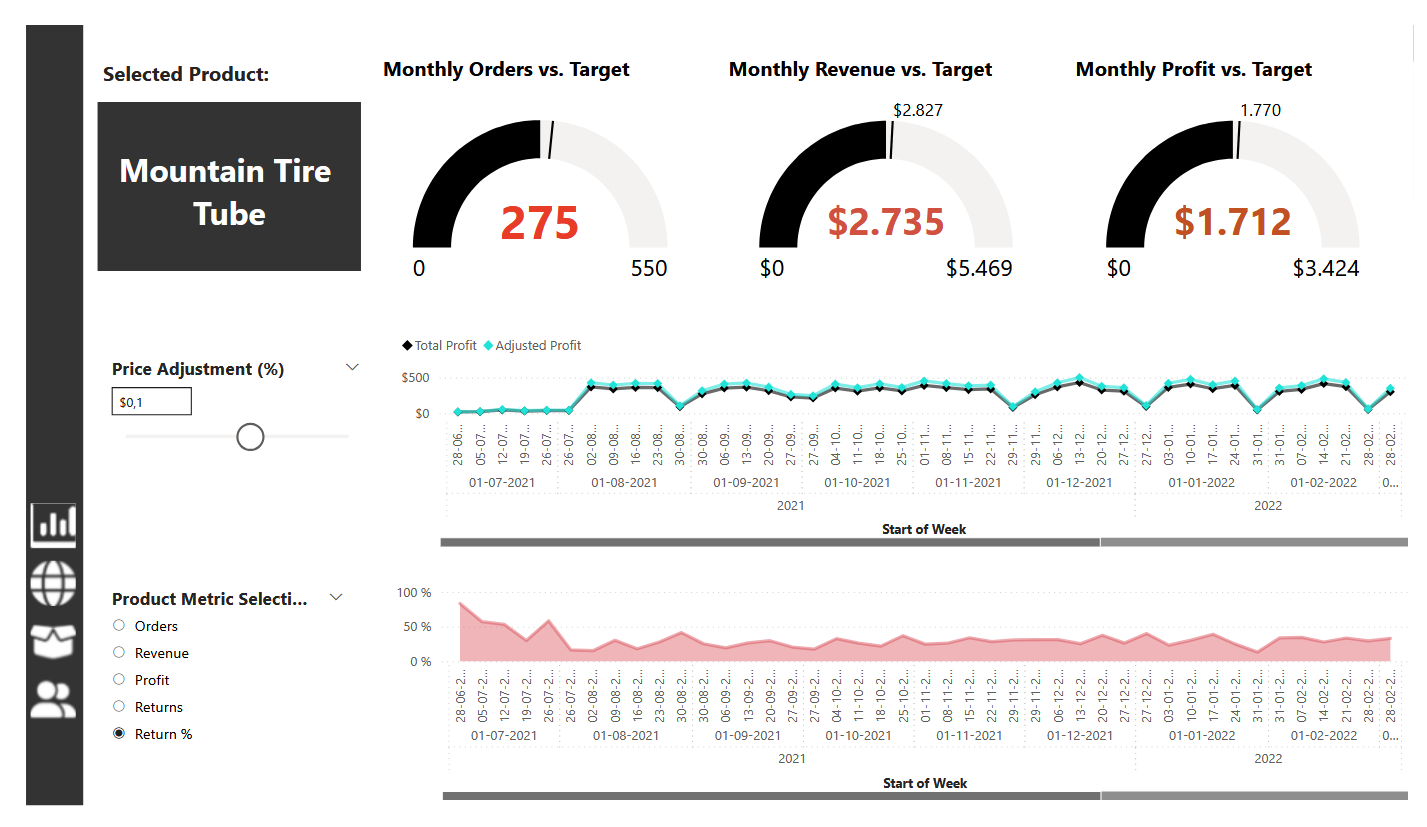

The page's visual inventory and layout, read from the dashboard file:
{"tool":"powerbi","page":{"name":"Products","canvas":[1280,720],"ordinal":2},"visuals":[{"type":"shape","box":[0,0,52.6,719.6],"z":0},{"type":"actionButton","box":[0,437.4,97,49.8],"z":0,"group":"g1"},{"type":"gauge","title":"Monthly Orders vs. Target","fields":{"Y":["Measure Table.Total Orders"],"TargetValue":["Measure Table.Orders Target"]},"box":[323.8,26.7,300.8,222.5],"z":1000},{"type":"actionButton","box":[0,544.4,97,49.8],"z":1000,"group":"g1"},{"type":"gauge","title":"Monthly Profit vs. Target","fields":{"Y":["Measure Table.Total Profit"],"TargetValue":["Measure Table.Profit Target"]},"box":[962.7,26.7,300.8,222.5],"z":2000},{"type":"actionButton","box":[0,490.9,97,49.8],"z":2000,"group":"g1"},{"type":"gauge","title":"Monthly Revenue vs. Target","fields":{"Y":["Measure Table.Total Revenue"],"TargetValue":["Measure Table.Revenue Target"]},"box":[643.3,26.7,300.8,222.5],"z":3000},{"type":"actionButton","box":[0,597.9,97,49.8],"z":3000,"group":"g1"},{"type":"lineChart","title":"Profit Trending","fields":{"Y":["Measure Table.Total Profit","Measure Table.Adjusted Profit"],"Category":["Calendar Lookup.Year Hierarchy.Year","Calendar Lookup.Year Hierarchy.Start of Month","Calendar Lookup.Year Hierarchy.Start of Week"]},"box":[340.8,276.2,939.2,210.2],"z":4000},{"type":"areaChart","title":"Returns Trending","fields":{"Y":["Measure Table.Return Rate"],"Category":["Calendar Lookup.Year Hierarchy.Year","Calendar Lookup.Year Hierarchy.Start of Month","Calendar Lookup.Year Hierarchy.Start of Week"]},"box":[335.9,508.8,944.2,211.5],"z":5000},{"type":"card","fields":{"Values":["Min(Product Lookup.ProductName)"]},"box":[66.4,70.7,242.4,155.8],"z":6000},{"type":"textbox","box":[66.4,27.4,225.1,57.7],"z":7000},{"type":"group","id":"g1","title":"Navegation Buttons","box":[0,437.4,97,210.2],"z":8000},{"type":"slicer","fields":{"Values":["Price Adjustment (%).Price Adjustment (%)"]},"box":[65.9,301,253.8,161.7],"z":9000},{"type":"slicer","title":"Product Metric Selection","fields":{"Values":["Product Metric Selection.Product Metric Selection"]},"box":[65.9,512.5,238.8,163],"z":10000}]}

Visuals, with their boxes on the page's 1280x720 design canvas (x1, y1, x2, y2). These are canvas units, not pixel positions in the 1427x827 screenshot, which may show the page scaled, cropped or inside an application window:
shape: box=[0, 0, 53, 720]
actionButton: box=[0, 437, 97, 487]
"Monthly Orders vs. Target" gauge: box=[324, 27, 625, 249]
actionButton: box=[0, 544, 97, 594]
"Monthly Profit vs. Target" gauge: box=[963, 27, 1264, 249]
actionButton: box=[0, 491, 97, 541]
"Monthly Revenue vs. Target" gauge: box=[643, 27, 944, 249]
actionButton: box=[0, 598, 97, 648]
"Profit Trending" lineChart: box=[341, 276, 1280, 486]
"Returns Trending" areaChart: box=[336, 509, 1280, 720]
card - Min(Product Lookup.ProductName): box=[66, 71, 309, 226]
textbox: box=[66, 27, 292, 85]
"Navegation Buttons" group: box=[0, 437, 97, 648]
slicer - Price Adjustment (%).Price Adjustment (%): box=[66, 301, 320, 463]
"Product Metric Selection" slicer: box=[66, 512, 305, 676]
